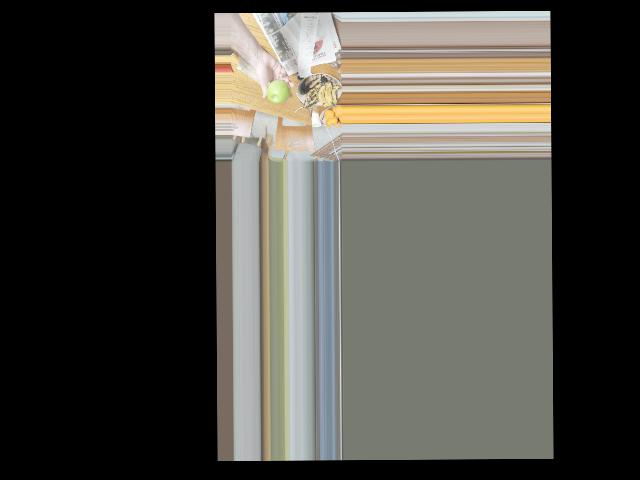apple: (265, 78, 291, 105)
